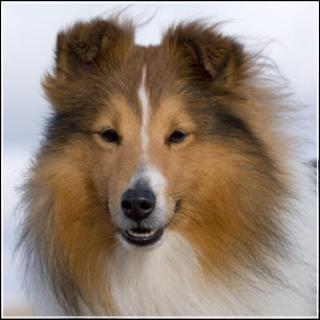dog: (35, 24, 283, 262)
nose: (118, 188, 156, 222)
